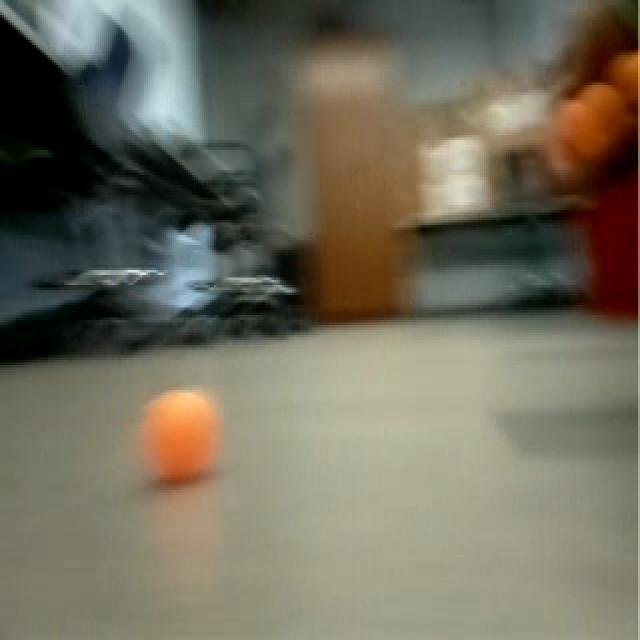oball: (141, 382, 220, 488)
